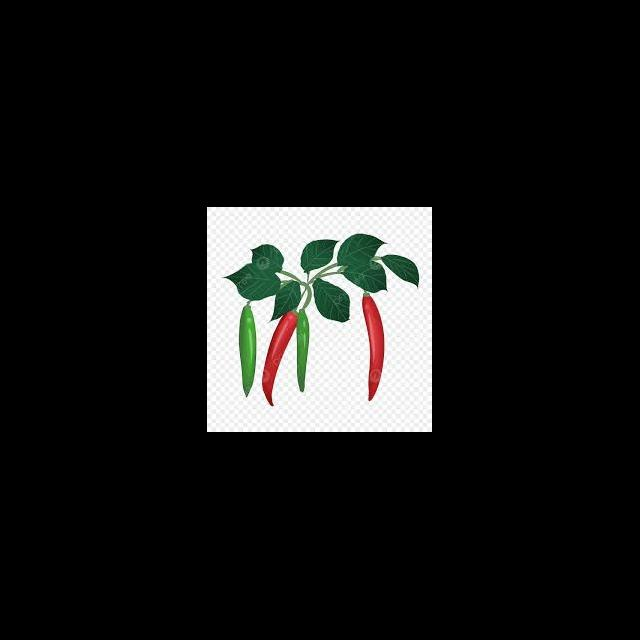chili_pepper: (262, 312, 300, 408), (362, 296, 386, 404), (238, 302, 258, 398), (300, 310, 310, 392)
